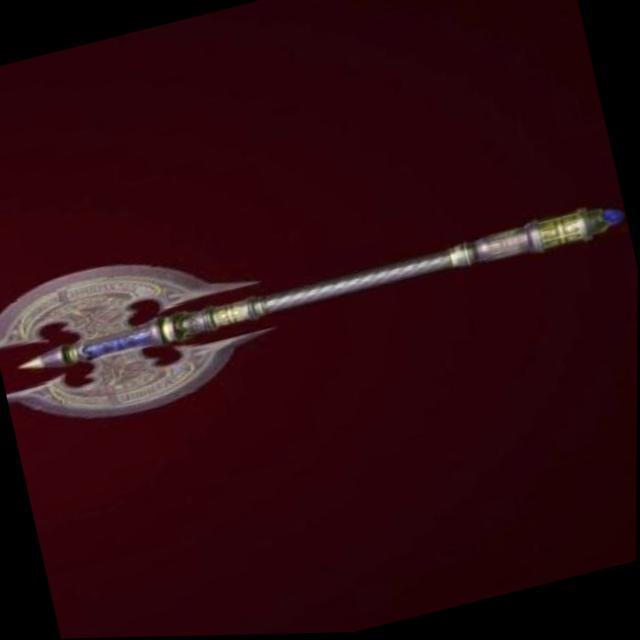weapon: (0, 115, 639, 486)
